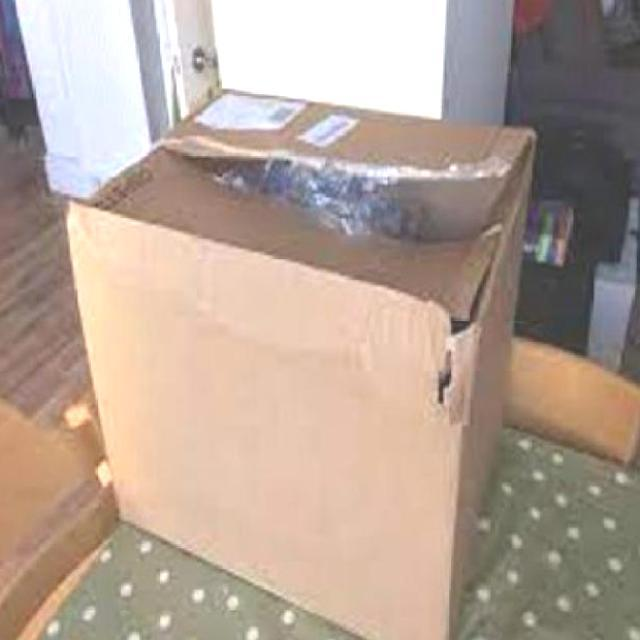box: (65, 79, 540, 640)
crushed: (194, 243, 380, 368)
opened: (151, 123, 521, 242), (418, 254, 504, 411)
